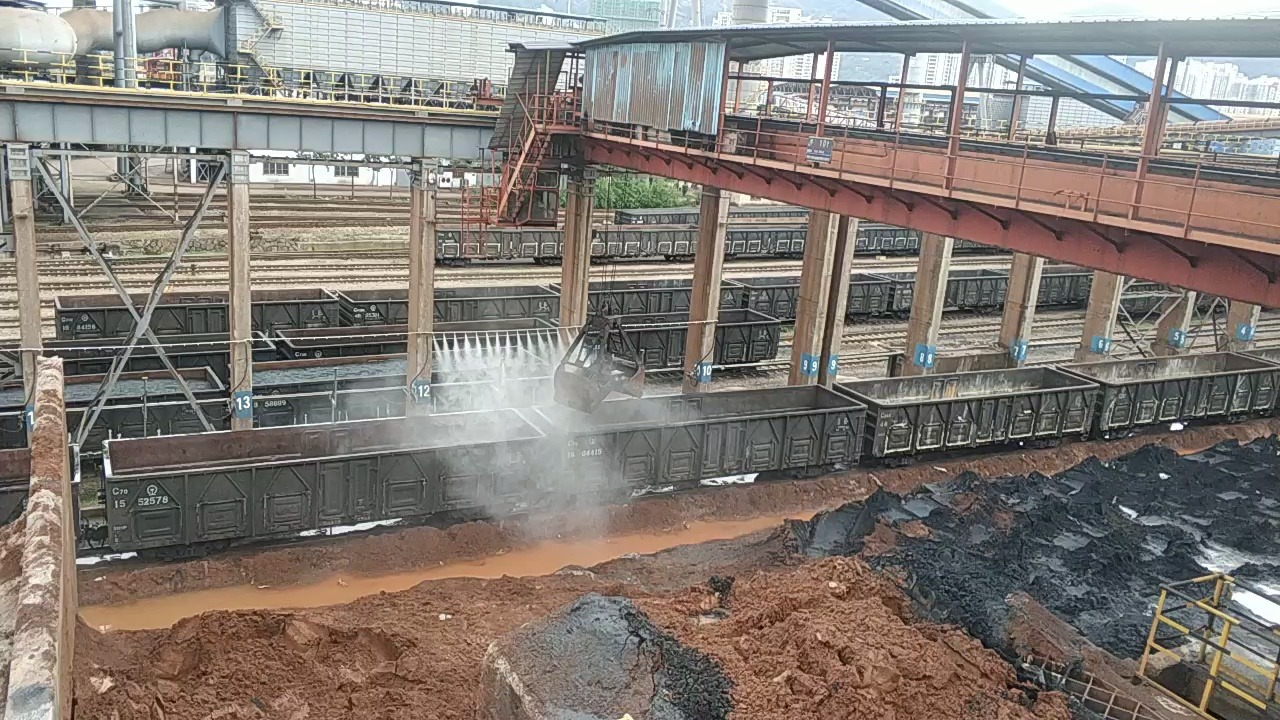dust: (308, 329, 695, 544)
grab: (546, 301, 652, 413)
